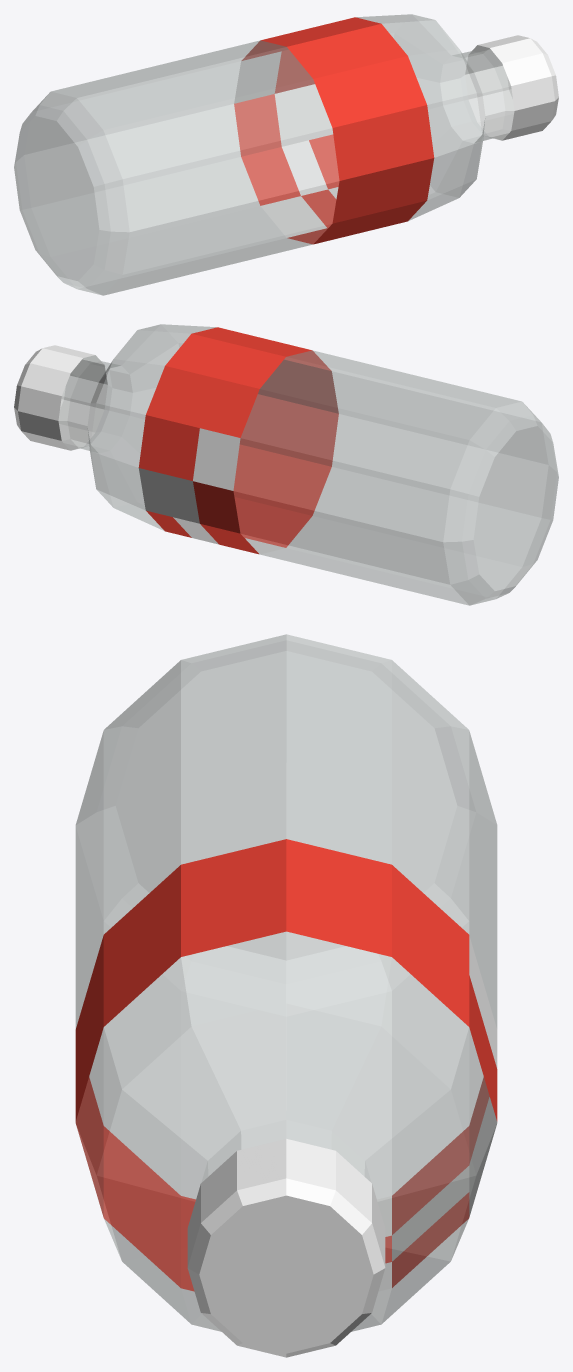
Rendered from trashgroup1279790214.fbx.
The picture shows the model from 3 angles, top to bottom: view 1: azimuth 30°, elevation 25°; view 2: azimuth 150°, elevation 25°; view 3: azimuth 270°, elevation 25°; orthographic projection. The views are drawn at different scales.
Parts seen in each view (by area): view 1: group1279790214; view 2: group1279790214; view 3: group1279790214.
Boxes of the visible parts, x1,y1,x2,y2 form: group1279790214: (14, 14, 558, 295); group1279790214: (14, 324, 558, 605); group1279790214: (75, 634, 497, 1357).
Size of the model in its own units: 51 by 19.39 by 19.39.
